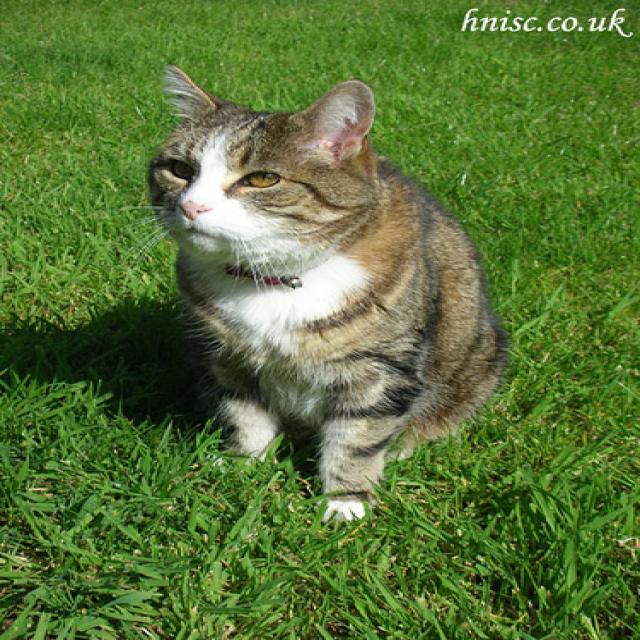cat: (140, 64, 512, 526)
